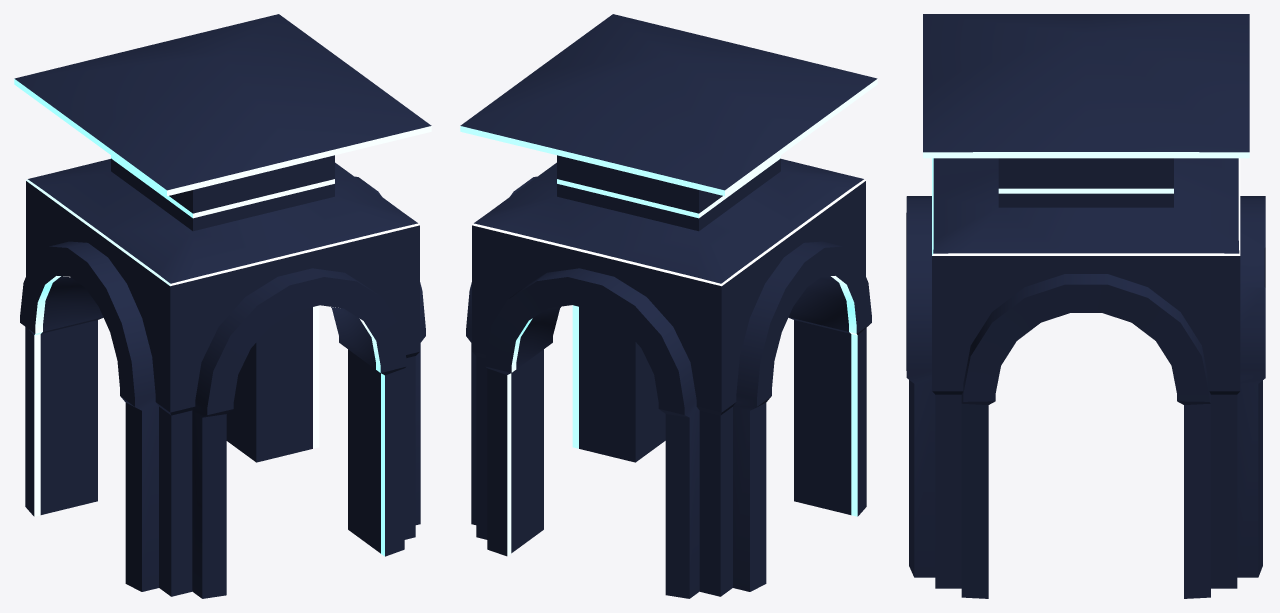
Rendered from Arch00.fbx.
3 renders of one model, left to right at view 1: azimuth 30°, elevation 25°; view 2: azimuth 150°, elevation 25°; view 3: azimuth 270°, elevation 25°, orthographic. The views are drawn at different scales.
Parts seen in each view (by area): view 1: Arch00; view 2: Arch00; view 3: Arch00.
Part boxes in pixels (<box>): Arch00: <box>14,14,431,598</box>; Arch00: <box>460,14,877,598</box>; Arch00: <box>906,14,1265,598</box>.
Bounding box in the file's own units: 3809 × 5748 × 3816.
